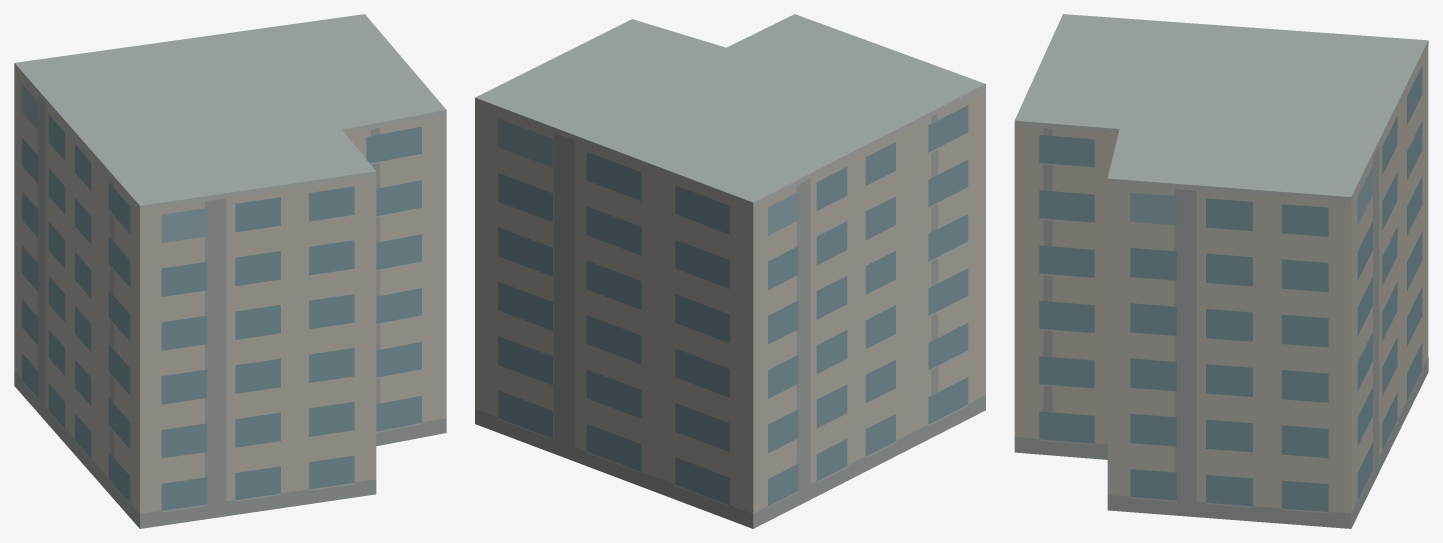
Rendered from survey-upis-32919027.glb.
3 renders of one model, left to right at view 1: azimuth 30°, elevation 25°; view 2: azimuth 150°, elevation 25°; view 3: azimuth 270°, elevation 25°, orthographic. The views are drawn at different scales.
Parts seen in each view (by area): view 1: survey-upis-32919027.tmp; view 2: survey-upis-32919027.tmp; view 3: survey-upis-32919027.tmp.
Boxes of the visible parts, left/top/right/bottom form: survey-upis-32919027.tmp: left=14, top=14, right=446, bottom=528; survey-upis-32919027.tmp: left=475, top=14, right=985, bottom=528; survey-upis-32919027.tmp: left=1014, top=14, right=1428, bottom=528.
Bounding box in the file's own units: 18.23 × 15.4 × 17.42.
